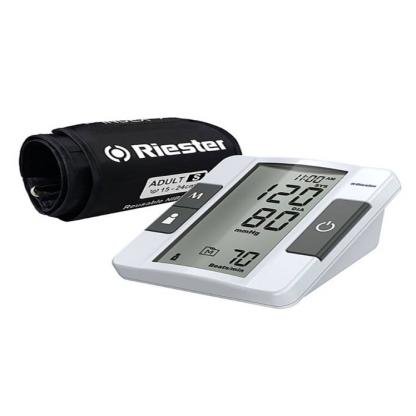Displays: (153, 162, 348, 278)
